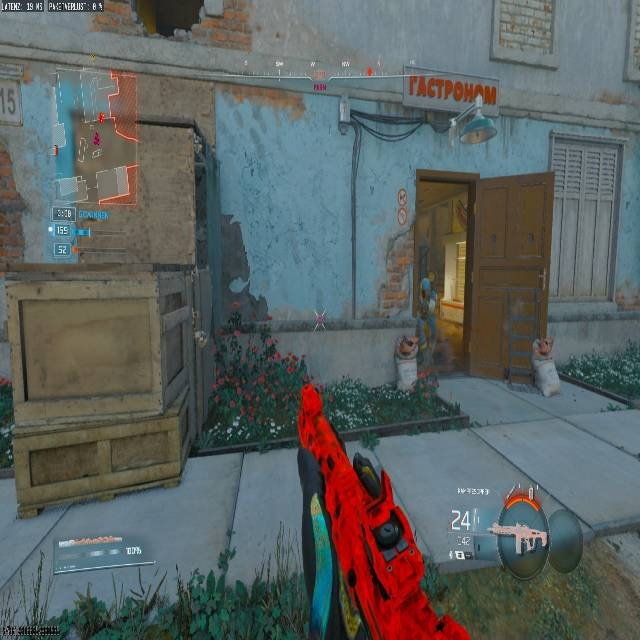player: (313, 312, 326, 331)
